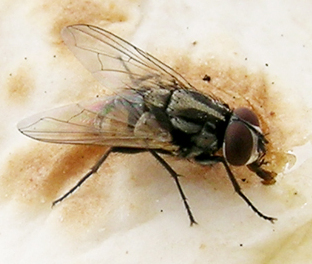house fly: (16, 21, 284, 230)
